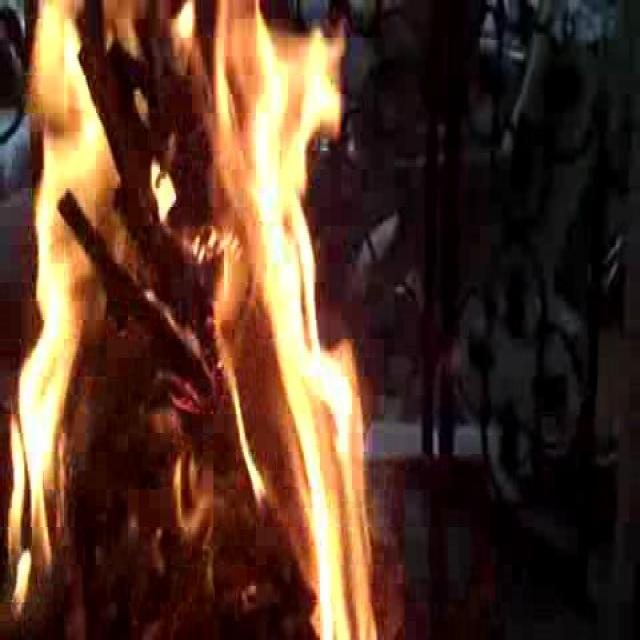Fire: (0, 0, 403, 624)
